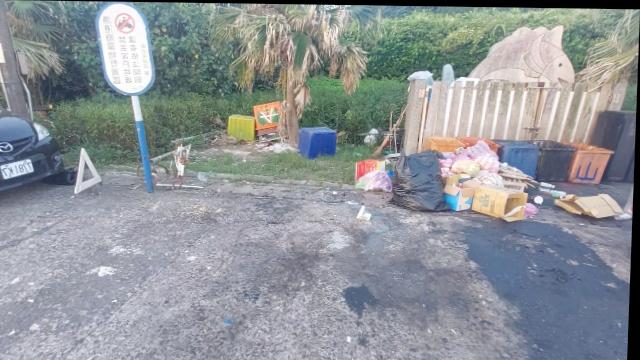pollute: (356, 133, 629, 223), (225, 97, 297, 150), (296, 122, 338, 157), (176, 143, 193, 176), (360, 205, 374, 218)
